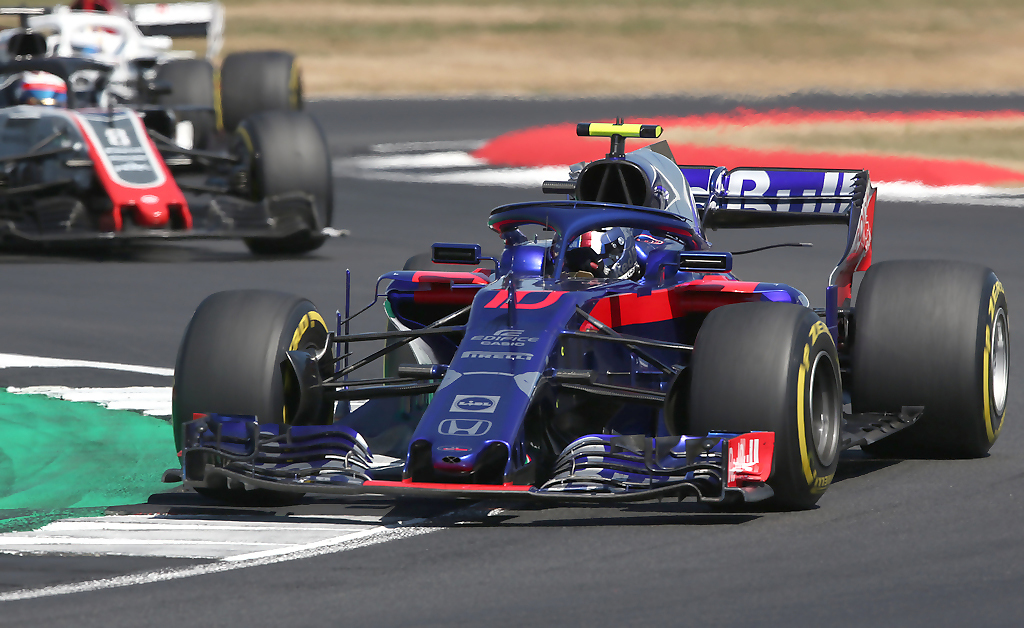F1 Car: (169, 116, 1016, 530)
